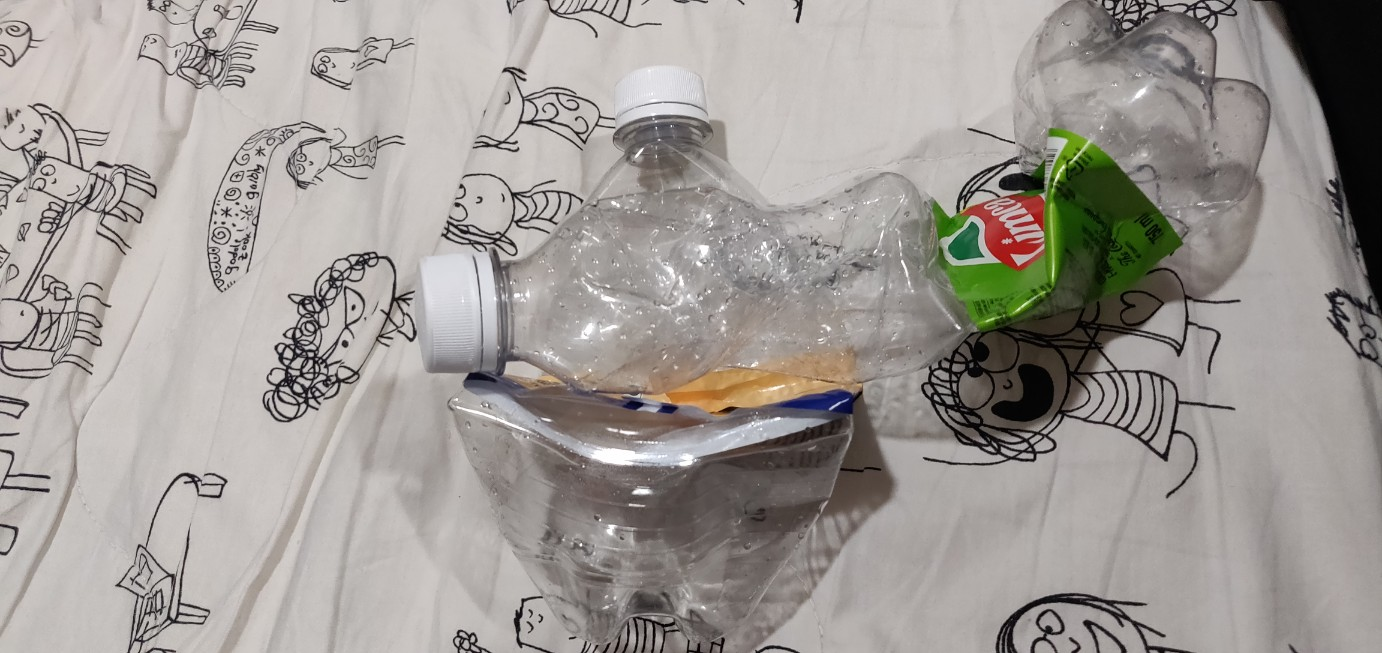Electronics: (387, 10, 1322, 438), (437, 52, 926, 645)
